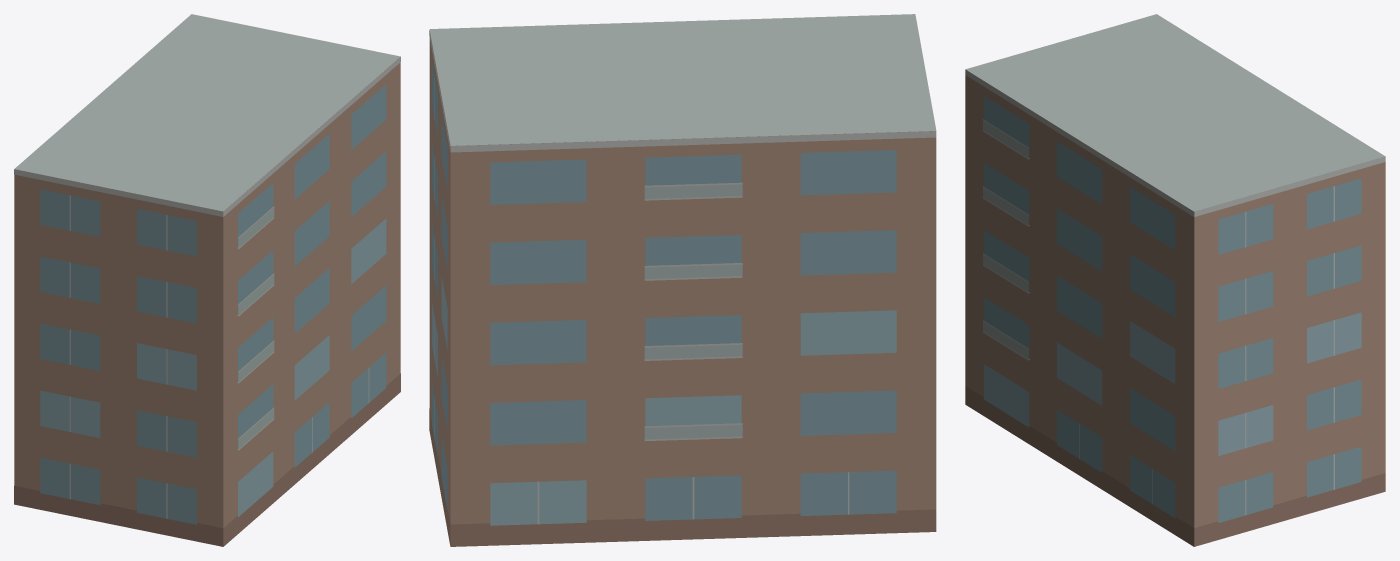
Rendered from survey-upis-32680321.glb.
3 views of the same model, side by side, from view 1: azimuth 30°, elevation 25°; view 2: azimuth 150°, elevation 25°; view 3: azimuth 270°, elevation 25° (orthographic). The views are drawn at different scales.
Visible parts, largest first — view 1: survey-upis-32680321.tmp; view 2: survey-upis-32680321.tmp; view 3: survey-upis-32680321.tmp.
Part boxes in pixels (<box>): survey-upis-32680321.tmp: <box>14,14,400,546</box>; survey-upis-32680321.tmp: <box>429,14,936,546</box>; survey-upis-32680321.tmp: <box>965,14,1385,546</box>.
Bounding box in the file's own units: 18.86 × 14.9 × 16.94.
